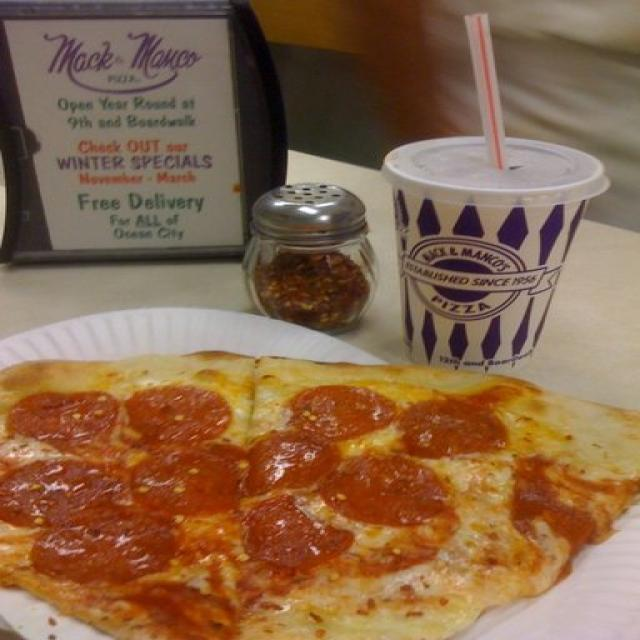Pepperoni: (0, 450, 119, 525), (132, 442, 246, 514), (40, 515, 172, 573), (250, 422, 344, 502), (128, 580, 253, 640), (245, 490, 338, 568), (324, 464, 444, 524), (127, 382, 228, 442), (10, 393, 120, 448), (291, 377, 385, 439), (402, 400, 502, 454)
Pizza: (2, 352, 637, 640)
